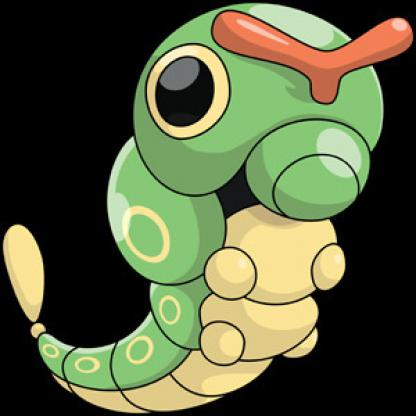Caterpie: (1, 1, 416, 416)
